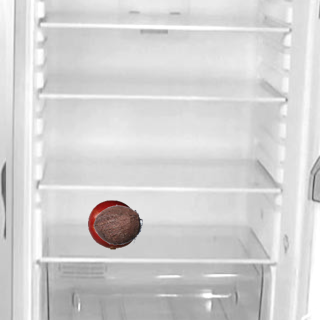Apple Braeburn: (87, 199, 137, 249)
Cocos: (92, 199, 142, 249)
